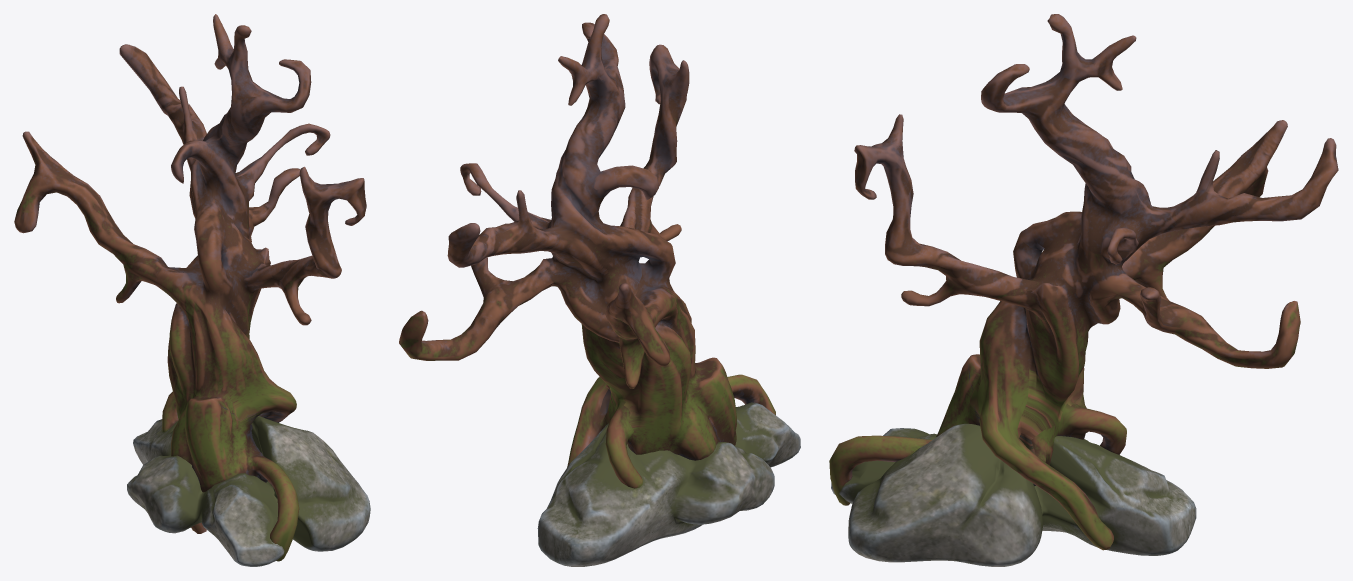
Rendered from tree.fbx.
3 renders of one model, left to right at view 1: azimuth 30°, elevation 25°; view 2: azimuth 150°, elevation 25°; view 3: azimuth 270°, elevation 25°, orthographic. The views are drawn at different scales.
Visible parts, largest first — view 1: tree_low; view 2: tree_low; view 3: tree_low.
Part boxes in pixels (left/top/right/bottom): tree_low: left=14, top=14, right=370, bottom=566; tree_low: left=399, top=14, right=800, bottom=566; tree_low: left=829, top=14, right=1338, bottom=566.
Size of the model in its own units: 506 by 902 by 765.
